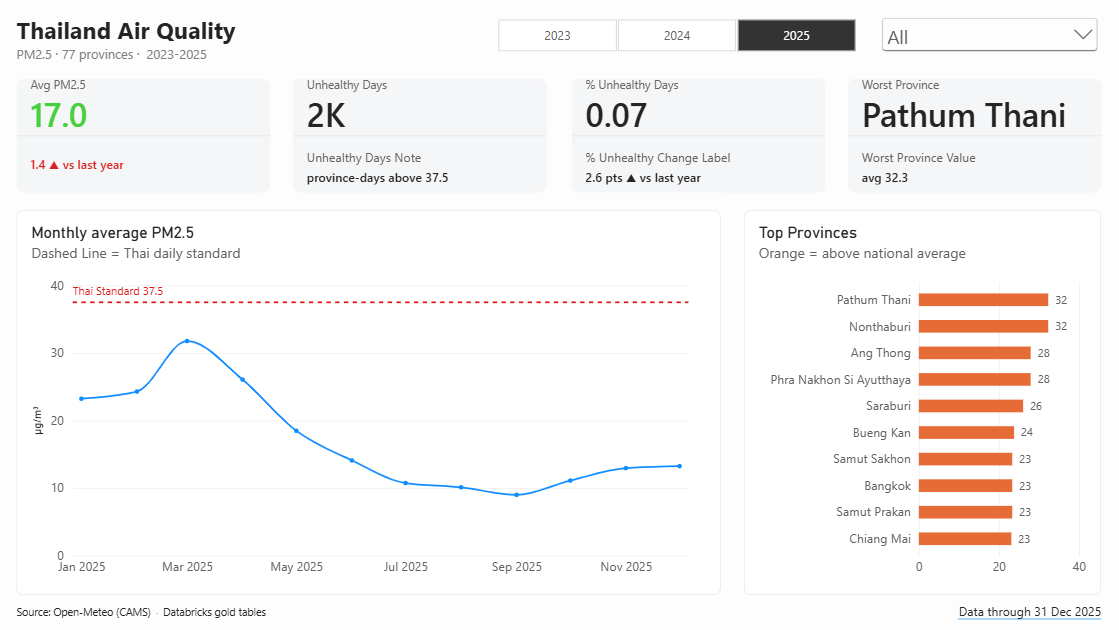

The dashboard page shown, as its layout file describes it:
{"tool":"powerbi","page":{"name":"Overview","canvas":[1280,720],"ordinal":0},"visuals":[{"type":"cardVisual","fields":{"Data":["fact_air_daily.Avg PM2.5"]},"box":[20,90,290,130],"z":0},{"type":"cardVisual","fields":{"Data":["fact_air_daily.Unhealthy Days"]},"box":[336,90,290,130],"z":1000},{"type":"cardVisual","fields":{"Data":["fact_air_daily.% Unhealthy Days"]},"box":[654,90,290,130],"z":2000},{"type":"cardVisual","fields":{"Data":["fact_air_daily.Worst Province"]},"box":[970,90,290,130],"z":3000},{"type":"lineChart","title":"Monthly average PM2.5","fields":{"Category":["dim_date.Month Start"],"Y":["fact_air_daily.Avg PM2.5"]},"box":[20,240,805,440],"z":4000},{"type":"textbox","box":[20,688,832,32],"z":5000},{"type":"clusteredBarChart","title":"Top Provinces","fields":{"Category":["dim_province.province"],"Y":["fact_air_daily.Avg PM2.5"]},"box":[852,240,408,440],"z":6000},{"type":"textbox","box":[956,688,304,32],"z":7000},{"type":"textbox","box":[20,15,620,60],"z":8000},{"type":"slicer","fields":{"Values":["dim_date.year"]},"box":[550,20,448,40],"z":9000},{"type":"slicer","fields":{"Values":["dim_province.region"]},"box":[1004,16,256,48],"z":10000}]}

Visuals, with their boxes in screenshot pixels (x1, y1, x2, y2), scaled from the page's 1280x720 canvas onto the 1119x630 screenshot:
cardVisual - fact_air_daily.Avg PM2.5: <bbox>17, 79, 271, 192</bbox>
cardVisual - fact_air_daily.Unhealthy Days: <bbox>294, 79, 547, 192</bbox>
cardVisual - fact_air_daily.% Unhealthy Days: <bbox>572, 79, 825, 192</bbox>
cardVisual - fact_air_daily.Worst Province: <bbox>848, 79, 1102, 192</bbox>
"Monthly average PM2.5" lineChart: <bbox>17, 210, 721, 595</bbox>
textbox: <bbox>17, 602, 745, 629</bbox>
"Top Provinces" clusteredBarChart: <bbox>745, 210, 1102, 595</bbox>
textbox: <bbox>836, 602, 1102, 629</bbox>
textbox: <bbox>17, 13, 560, 66</bbox>
slicer - dim_date.year: <bbox>481, 18, 872, 52</bbox>
slicer - dim_province.region: <bbox>878, 14, 1102, 56</bbox>
